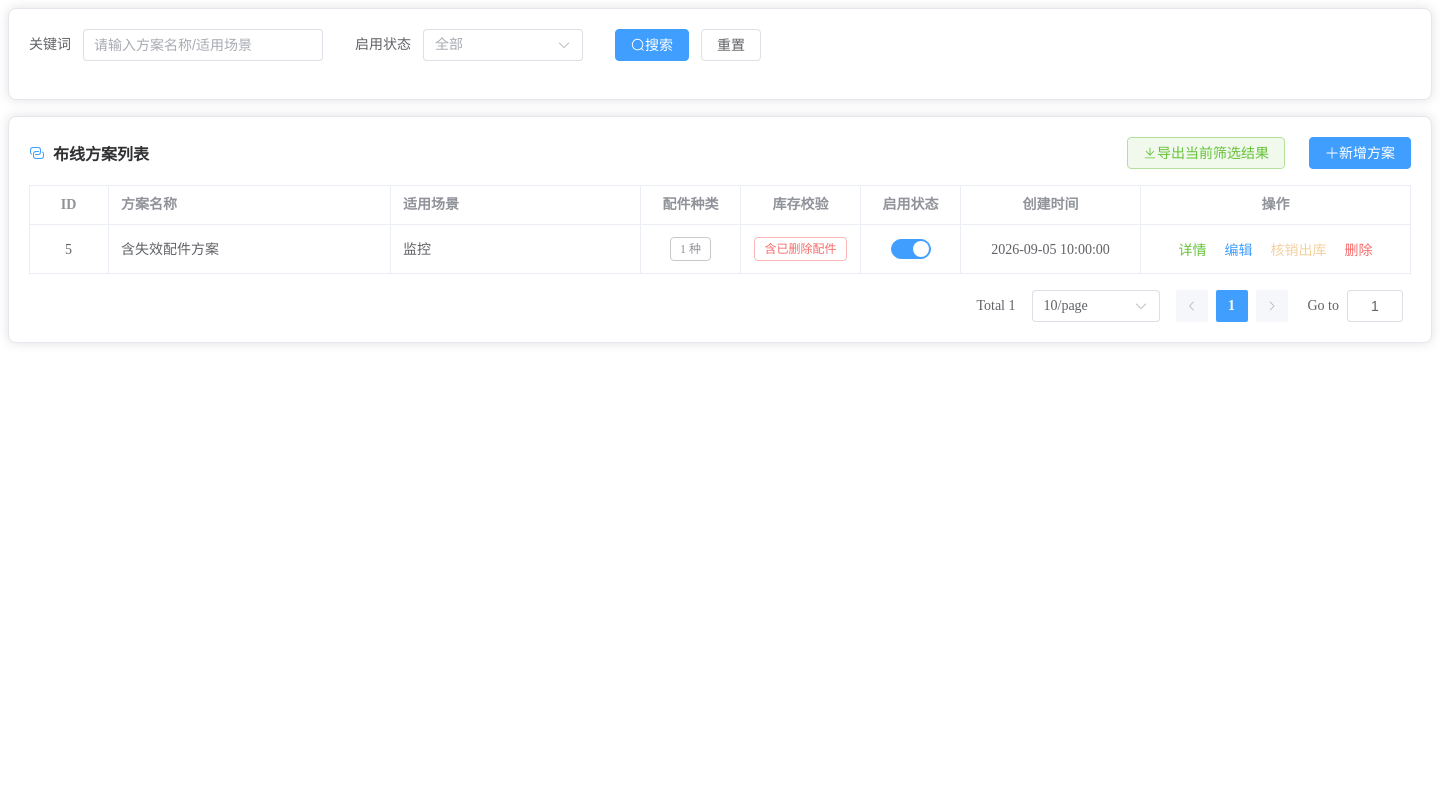
Scenario: 布线方案 - 核销出库 › 含已删除配件的方案：详情弹窗标红且核销按钮禁用
Click the button "详情" at {"x": 1192, "y": 250}, box [1176, 240, 1210, 260]
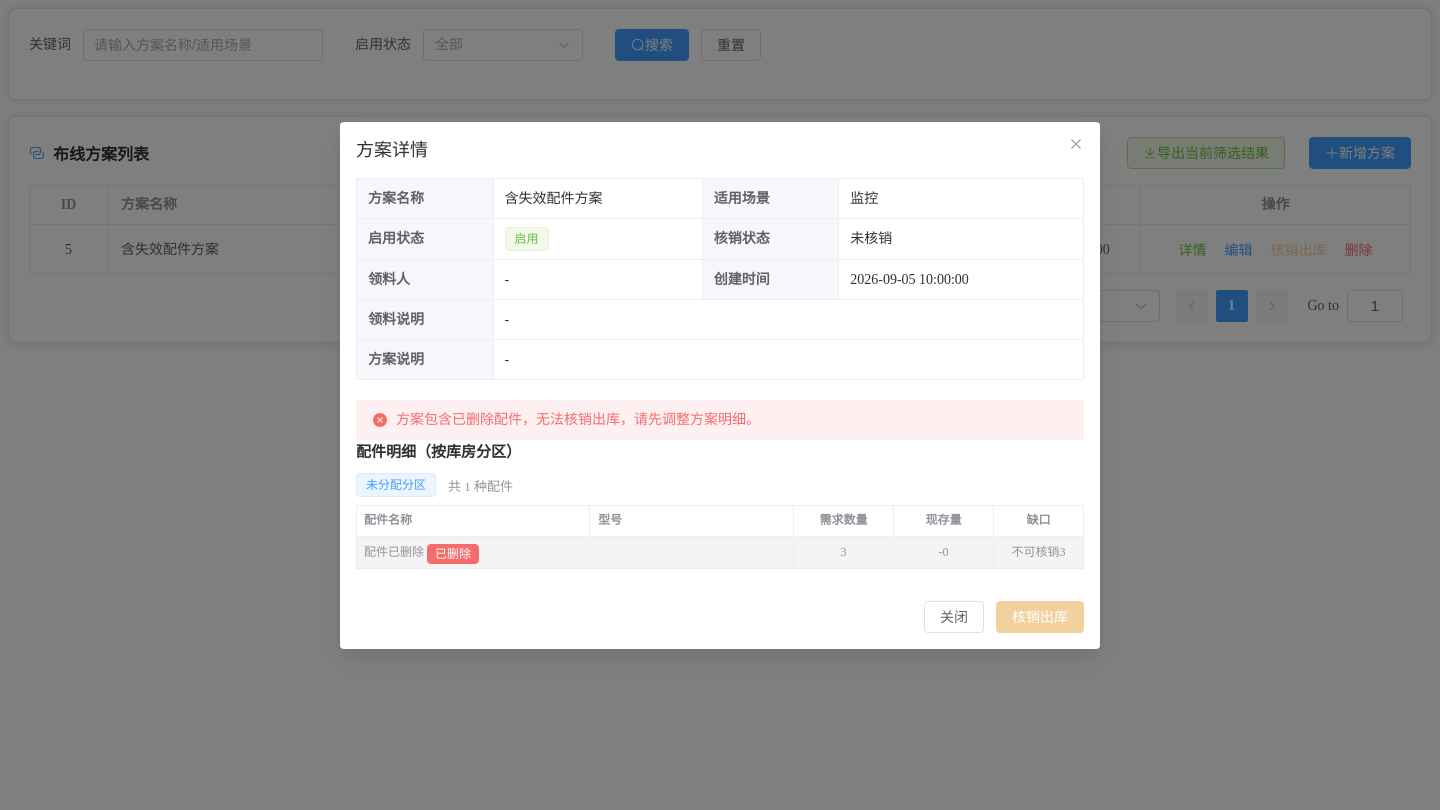
Expected: the text "无法核销出库" is shown, [396, 412, 760, 427]
Expected: the text "不可核销" is shown, [1012, 545, 1060, 559]
Expected: the button "核销出库" is disabled, [996, 601, 1084, 633]
